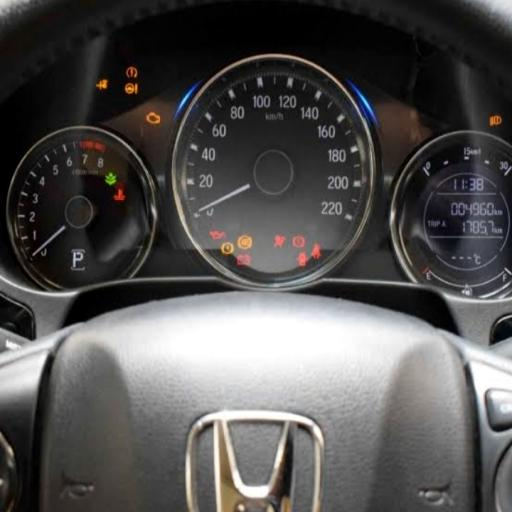belt: (311, 242, 321, 260)
brake_system_fault: (292, 235, 305, 248)
check_engine: (145, 110, 162, 126)
oil: (210, 229, 226, 240)
tachometer: (6, 126, 156, 286)
vehicle_charging: (236, 254, 251, 265)
